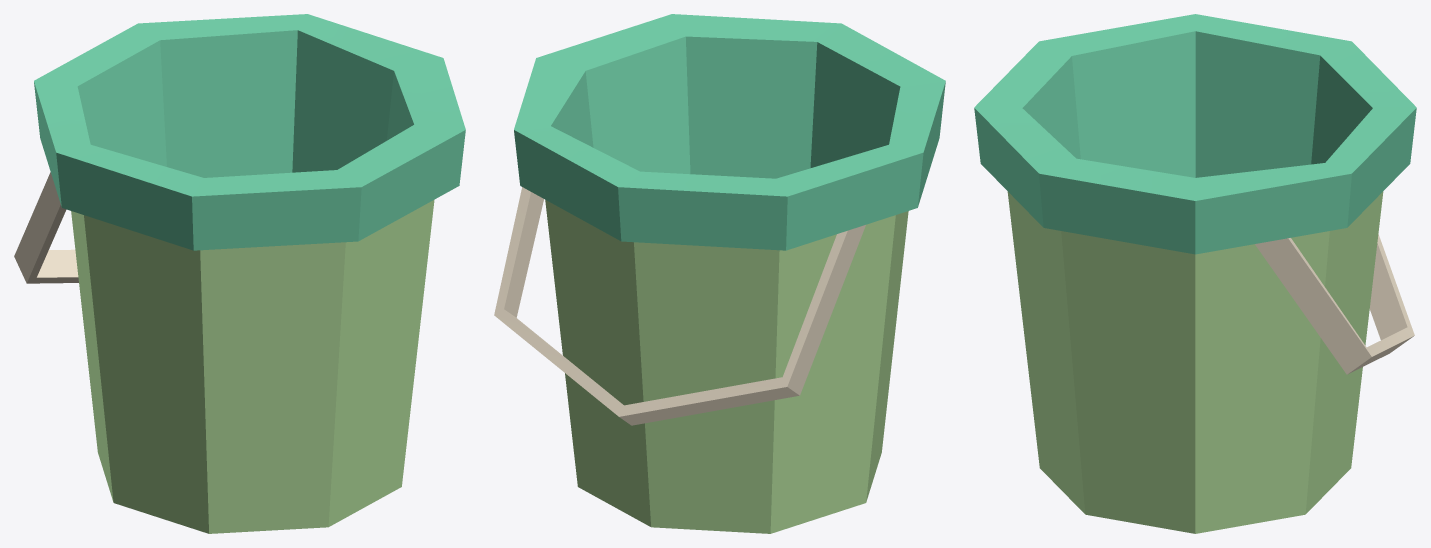
Rendered from sand_bucket3.fbx.
The picture shows the model from 3 angles, left to right: view 1: azimuth 30°, elevation 25°; view 2: azimuth 150°, elevation 25°; view 3: azimuth 270°, elevation 25°; orthographic projection.
Visible parts, largest first — view 1: pPipe2; view 2: pPipe2; view 3: pPipe2.
Boxes of the visible parts, <box> form: pPipe2: <box>14,14,465,533</box>; pPipe2: <box>494,14,945,533</box>; pPipe2: <box>974,14,1416,533</box>.
Size of the model in its own units: 50.81 by 45.68 by 50.81.
